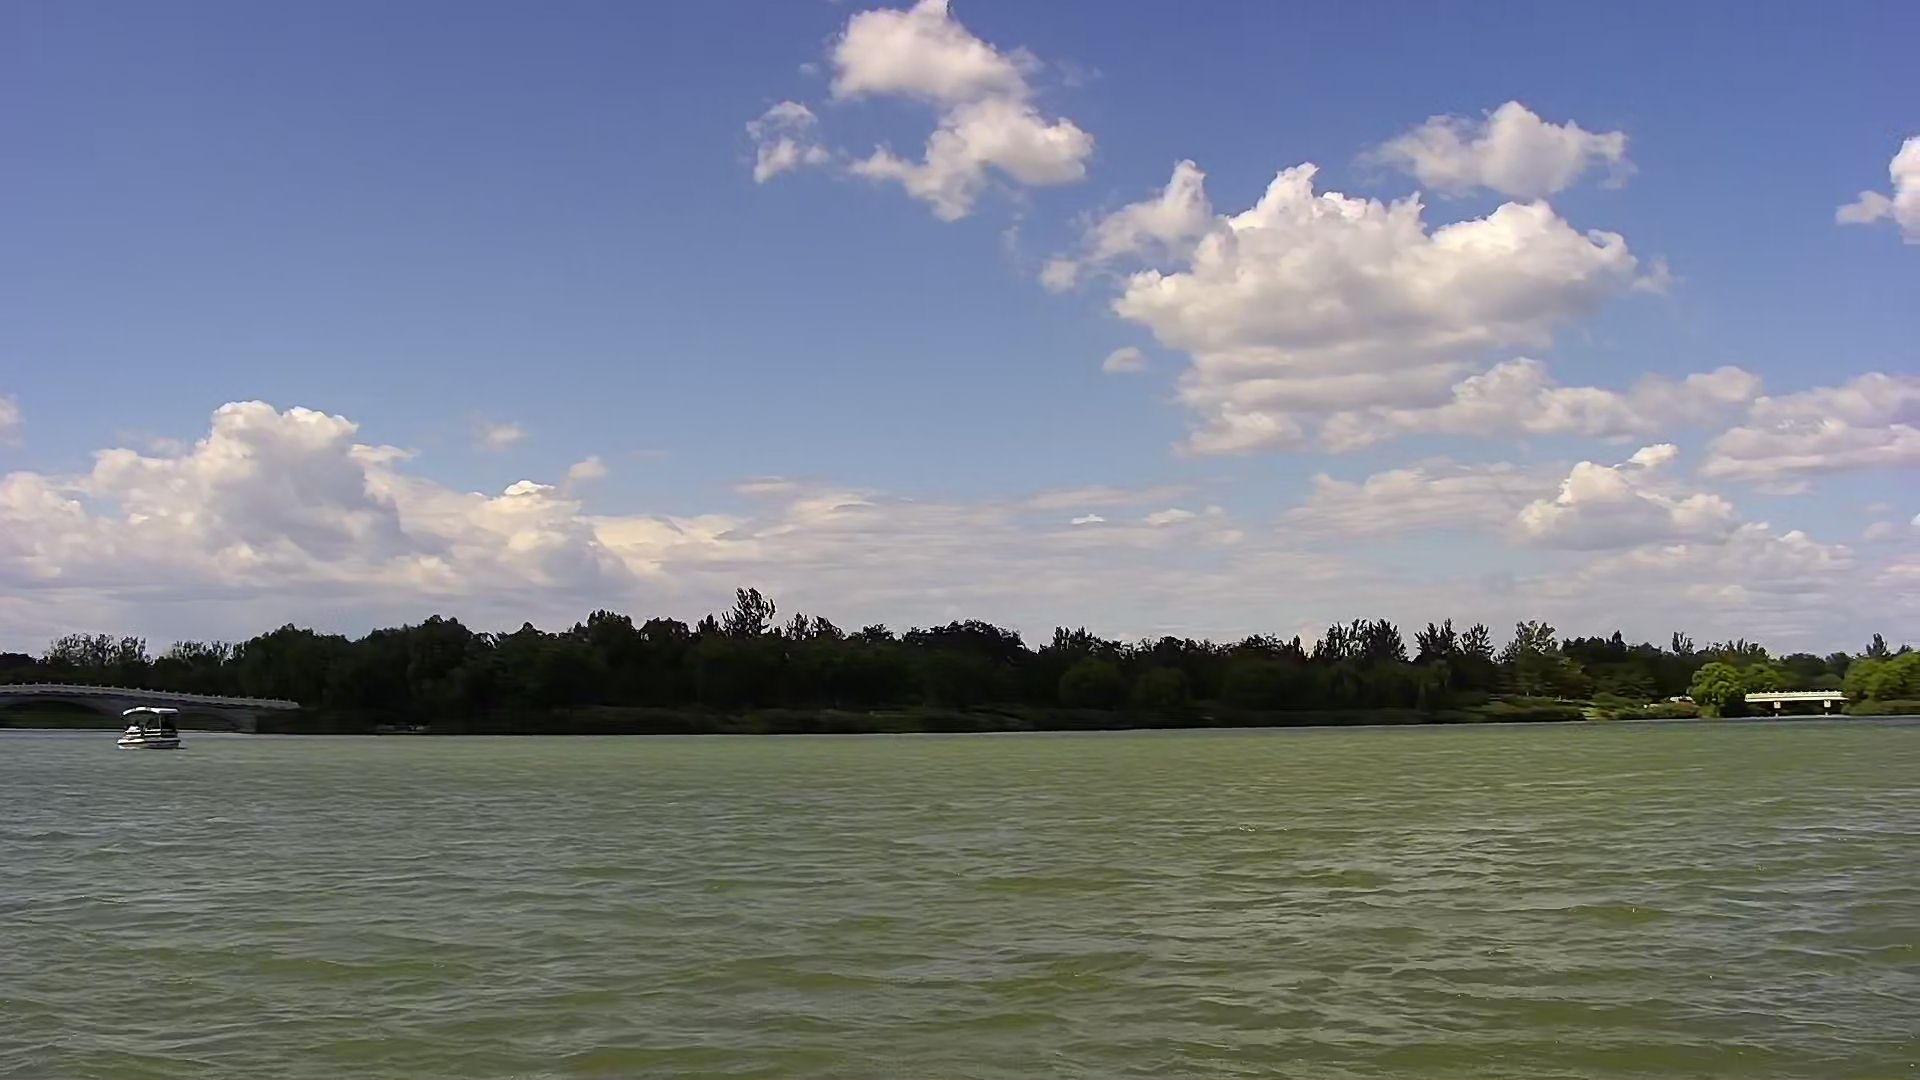boat: (104, 709, 195, 752)
bridge: (1, 680, 320, 735), (1742, 686, 1851, 727)
